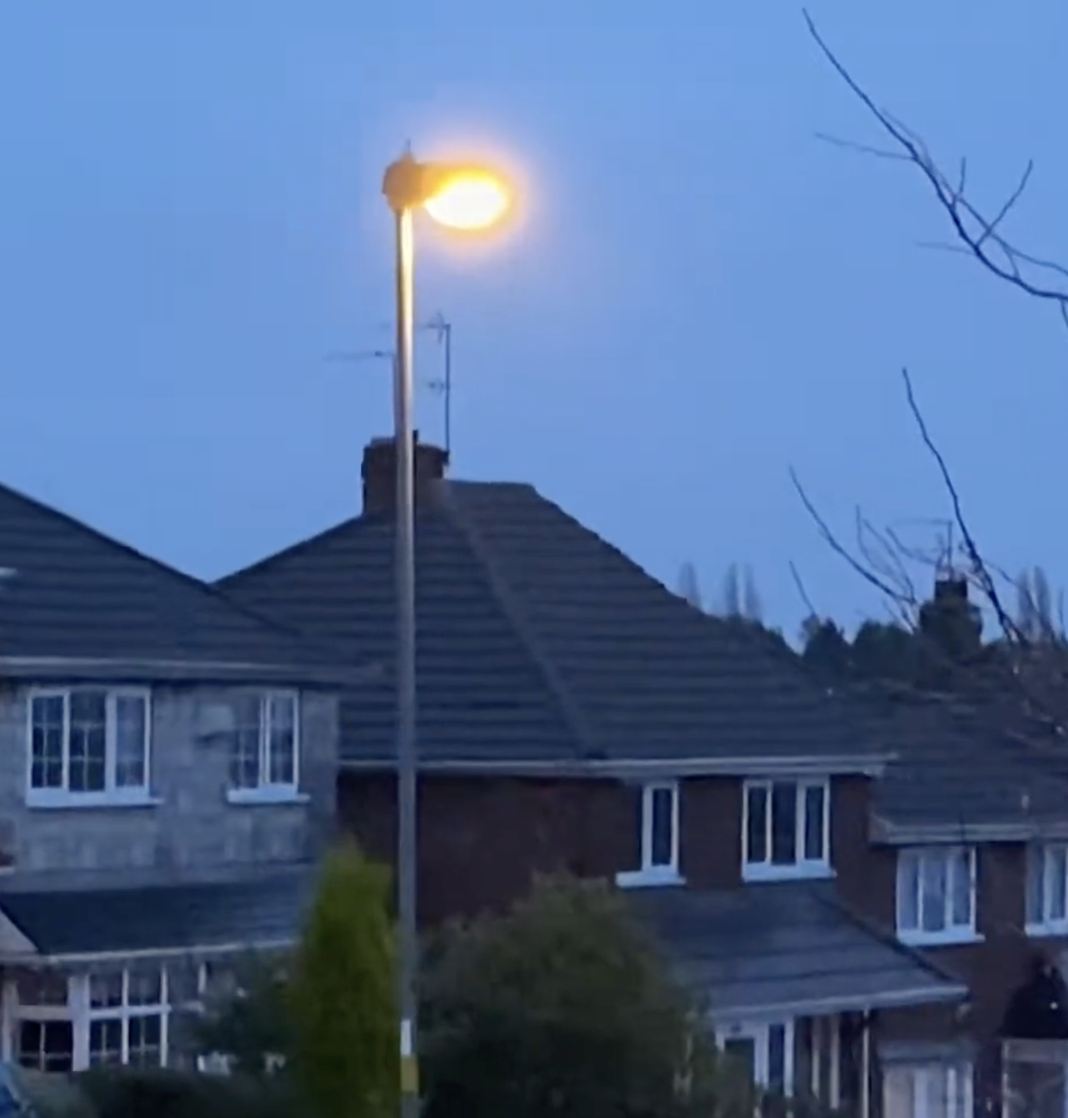HPS: (377, 149, 530, 296)
